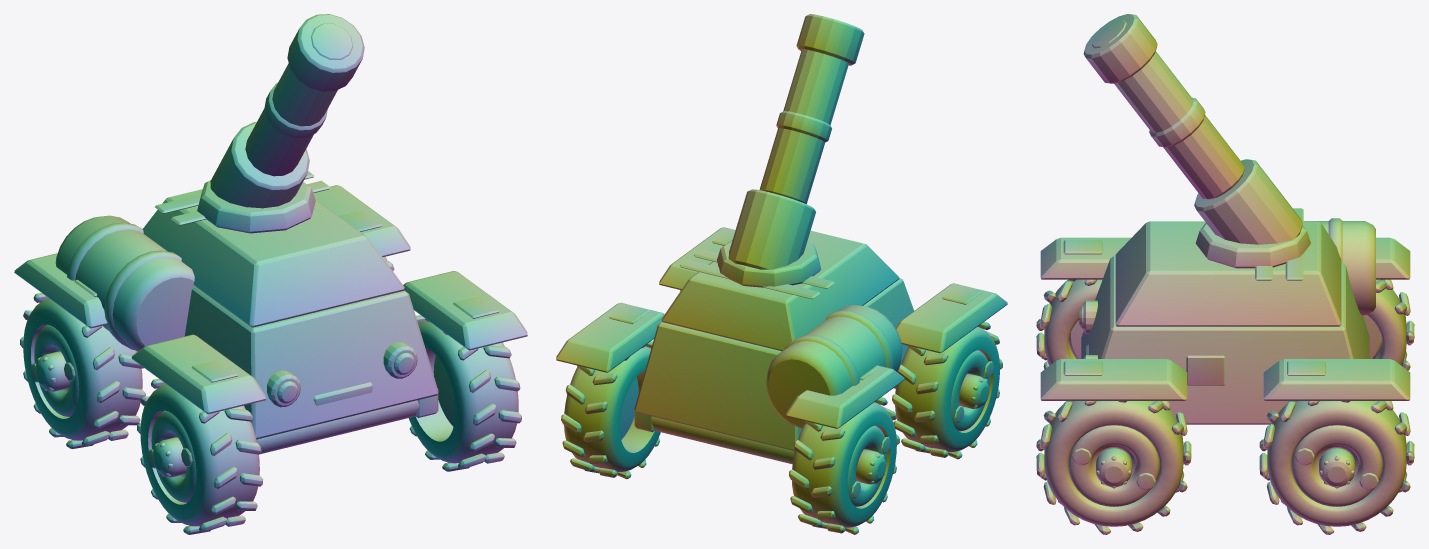
File: lobber_rig.glb
The picture shows the model from 3 angles, left to right: view 1: azimuth 30°, elevation 25°; view 2: azimuth 150°, elevation 25°; view 3: azimuth 270°, elevation 25°; orthographic projection. The views are drawn at different scales.
Visible parts, largest first — view 1: body, barrel, wheel_1, wheel_3, wheel_0, turret; view 2: body, barrel, wheel_3, wheel_1, wheel_2, turret; view 3: body, barrel, wheel_0, wheel_2, wheel_1, wheel_3, turret.
Part boxes in pixels (left/top/right/bottom): body: left=14, top=171, right=527, bottom=454; barrel: left=210, top=14, right=364, bottom=208; wheel_1: left=137, top=379, right=262, bottom=534; wheel_3: left=20, top=293, right=145, bottom=448; wheel_0: left=408, top=315, right=521, bottom=471; turret: left=197, top=180, right=315, bottom=233; body: left=556, top=227, right=1007, bottom=464; barrel: left=728, top=14, right=864, bottom=269; wheel_3: left=789, top=397, right=899, bottom=534; wheel_1: left=892, top=321, right=1002, bottom=459; wheel_2: left=561, top=341, right=660, bottom=479; turret: left=717, top=240, right=821, bottom=287; body: left=1040, top=208, right=1410, bottom=424; barrel: left=1083, top=14, right=1302, bottom=244; wheel_0: left=1036, top=401, right=1191, bottom=534; wheel_2: left=1259, top=401, right=1414, bottom=534; wheel_1: left=1036, top=279, right=1102, bottom=369; wheel_3: left=1363, top=279, right=1414, bottom=370; turret: left=1195, top=223, right=1310, bottom=268.
Bounding box in the file's own units: 6.76 × 8.84 × 6.78.
